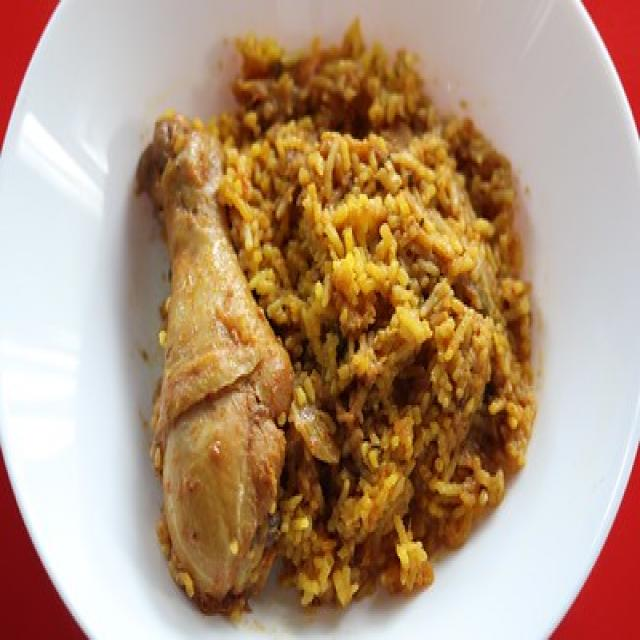Biryani: (149, 79, 523, 578)
